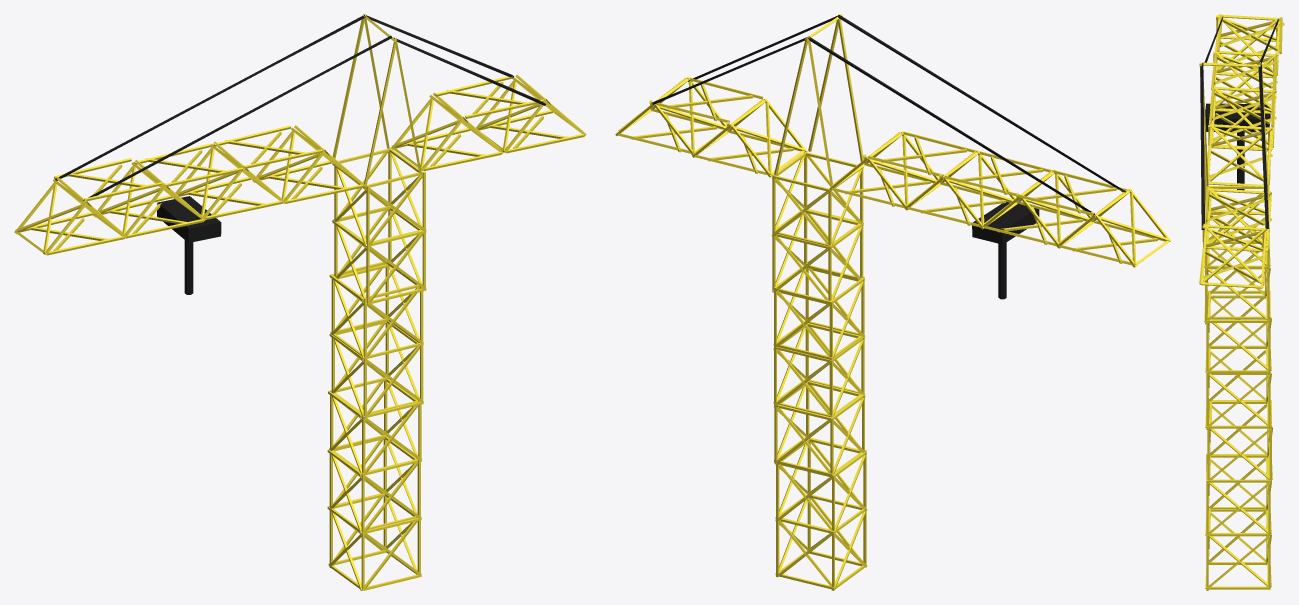
The model's file is Building construction crane.glb.
3 views of the same model, side by side, from view 1: azimuth 30°, elevation 25°; view 2: azimuth 150°, elevation 25°; view 3: azimuth 270°, elevation 25° (orthographic). The views are drawn at different scales.
Parts seen in each view (by area): view 1: group307797914, group776536491, group1532226185, group1751413145, group533580267, group1775780259, group509876920, group795856984, group880570556, group1646145142, group219201849, group479716467 (+6 smaller); view 2: group1532226185, group776536491, group509876920, group307797914, group533580267, group1775780259, group1751413145, group880570556, group795856984, group1646145142, group219201849, group479716467 (+6 smaller); view 3: group776536491, group1646145142, group1532226185, group533580267, group509876920, group1751413145, group1775780259, group795856984, group880570556, group219201849, group307797914, group479716467 (+27 smaller).
Boxes of the visible parts, box(x1,y1,x2,y2) form: group307797914: box(332, 147, 426, 246); group776536491: box(329, 262, 423, 358); group1532226185: box(327, 493, 421, 590); group1751413145: box(327, 436, 421, 533); group533580267: box(329, 321, 423, 417); group1775780259: box(332, 207, 426, 304); group509876920: box(328, 379, 421, 475); group795856984: box(14, 176, 125, 255); group880570556: box(391, 92, 503, 171); group1646145142: box(252, 125, 364, 203); group219201849: box(93, 160, 205, 238); group479716467: box(157, 196, 221, 242); group1532226185: box(775, 495, 867, 590); group776536491: box(773, 262, 865, 359); group509876920: box(773, 381, 865, 476); group307797914: box(771, 150, 863, 246); group533580267: box(773, 323, 864, 417); group1775780259: box(771, 210, 863, 304); group1751413145: box(775, 438, 867, 534); group880570556: box(692, 98, 806, 177); group795856984: box(1056, 188, 1170, 267); group1646145142: box(829, 131, 941, 210); group219201849: box(983, 169, 1095, 248); group479716467: box(972, 202, 1039, 244); group776536491: box(1205, 290, 1271, 374); group1646145142: box(1207, 123, 1272, 186); group1532226185: box(1205, 507, 1271, 590); group533580267: box(1205, 347, 1271, 429); group509876920: box(1206, 400, 1272, 483); group1751413145: box(1205, 453, 1271, 537); group1775780259: box(1204, 240, 1270, 324); group795856984: box(1215, 14, 1279, 78); group880570556: box(1206, 187, 1272, 251); group219201849: box(1210, 50, 1277, 114); group307797914: box(1204, 186, 1270, 269); group479716467: box(1205, 103, 1270, 132).
Bounding box in the file's own units: 5.15 × 5.04 × 0.7556.
